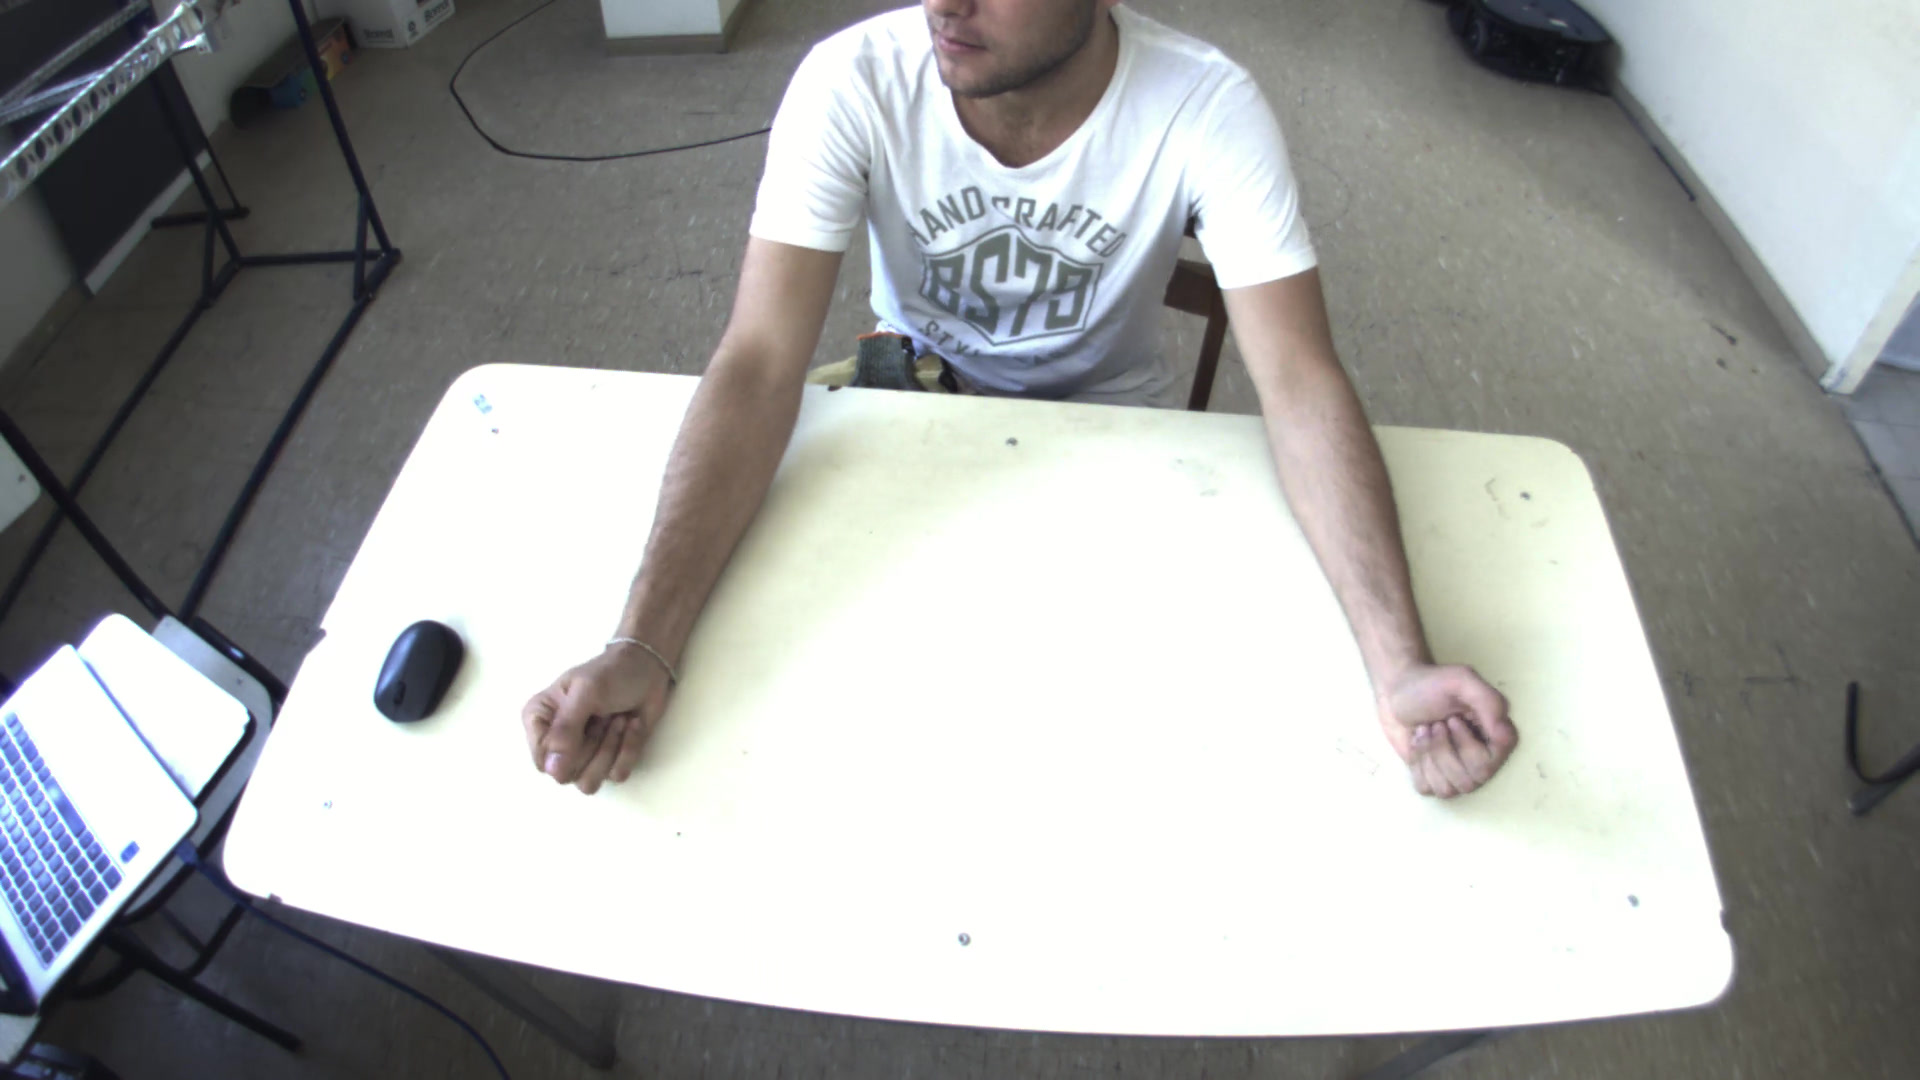hand: (512, 636, 682, 798), (1371, 653, 1538, 804)
